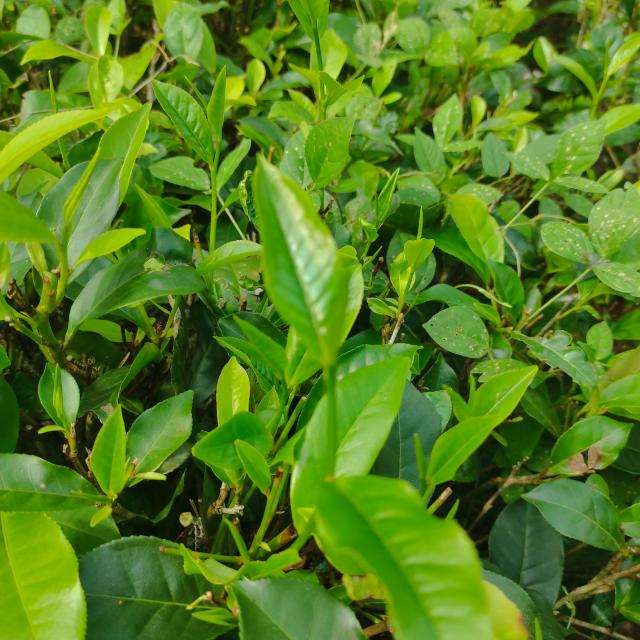unopened_leaf: (51, 138, 105, 251), (213, 509, 265, 581), (176, 70, 223, 122), (47, 356, 74, 444), (408, 426, 439, 491), (64, 484, 125, 510), (408, 197, 432, 250), (358, 242, 392, 274), (598, 31, 616, 85), (372, 184, 388, 231)
